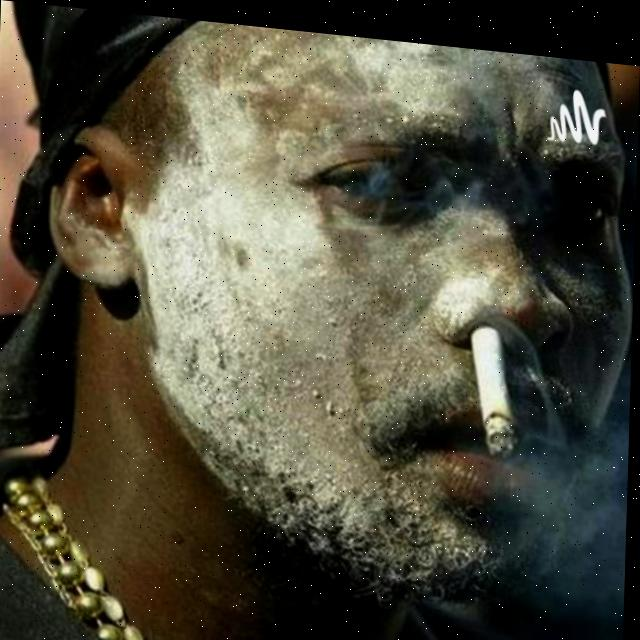cigarette: (469, 312, 524, 451)
